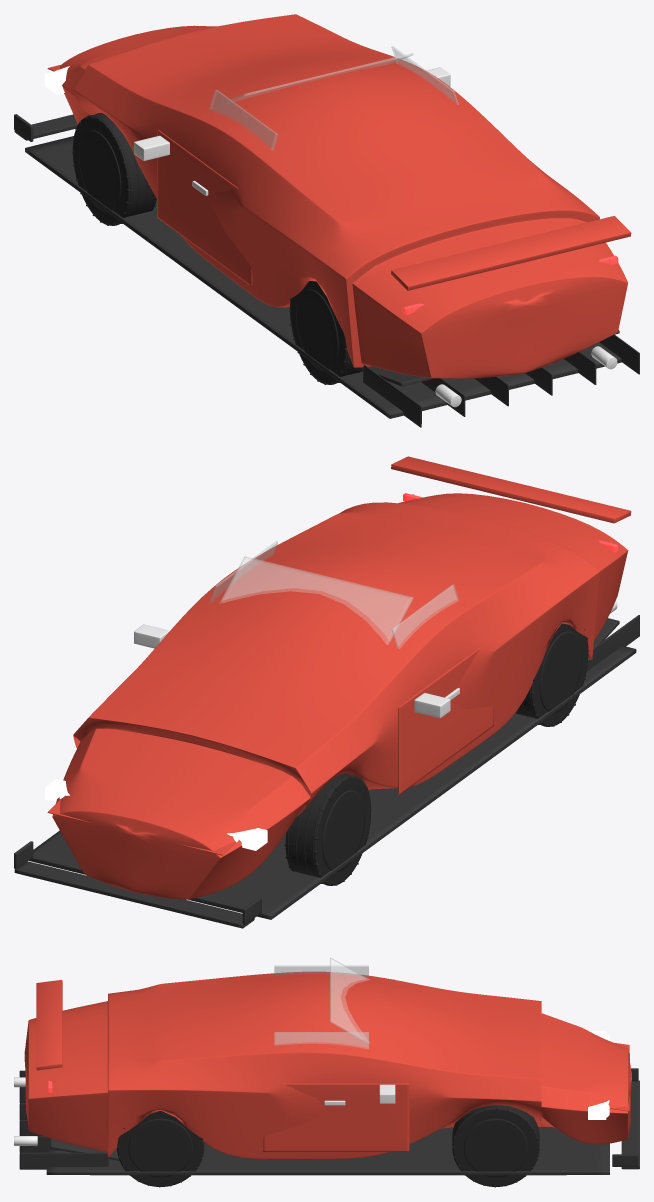
The model's file is vehicle.glb.
The picture shows the model from 3 angles, top to bottom: view 1: azimuth 30°, elevation 25°; view 2: azimuth 150°, elevation 25°; view 3: azimuth 270°, elevation 25°; orthographic projection. The views are drawn at different scales.
Visible parts, largest first — view 1: BODY_MainShell, UNDERBODY_FlatFloor, BODY_Door_FL, WHEEL_FL_Tire, AERO_MustangGT_RearWing, WHEEL_RL_Tire, GLASS_Greenhouse, JEWELRY_Hardware, AERO_FrontSplitter, JEWELRY_MustangGT_DualExhaust; view 2: BODY_MainShell, UNDERBODY_FlatFloor, GLASS_Greenhouse, WHEEL_FL_Tire, BODY_Door_FL, WHEEL_RL_Tire, AERO_MustangGT_RearWing, AERO_FrontSplitter, JEWELRY_Hardware, LIGHTING_Headlamps; view 3: BODY_MainShell, UNDERBODY_FlatFloor, BODY_Door_FR, WHEEL_FR_Tire, WHEEL_RR_Tire, GLASS_Greenhouse, AERO_MustangGT_RearWing, AERO_FrontSplitter, JEWELRY_Hardware, LIGHTING_Headlamps, JEWELRY_MustangGT_DualExhaust.
Boxes of the visible parts, box(x1,y1,x2,y2) form: BODY_MainShell: box(60, 14, 627, 378); UNDERBODY_FlatFloor: box(25, 136, 639, 427); BODY_Door_FL: box(157, 129, 252, 286); WHEEL_FL_Tire: box(71, 113, 156, 225); AERO_MustangGT_RearWing: box(391, 216, 631, 290); WHEEL_RL_Tire: box(289, 281, 361, 384); GLASS_Greenhouse: box(209, 46, 458, 150); JEWELRY_Hardware: box(134, 67, 450, 195); AERO_FrontSplitter: box(14, 114, 77, 141); JEWELRY_MustangGT_DualExhaust: box(435, 346, 617, 407); BODY_MainShell: box(52, 493, 628, 899); UNDERBODY_FlatFloor: box(28, 615, 639, 919); GLASS_Greenhouse: box(209, 541, 458, 649); WHEEL_FL_Tire: box(284, 773, 371, 885); BODY_Door_FL: box(398, 647, 493, 795); WHEEL_RL_Tire: box(515, 623, 589, 726); AERO_MustangGT_RearWing: box(391, 456, 631, 523); AERO_FrontSplitter: box(14, 841, 261, 928); JEWELRY_Hardware: box(134, 624, 459, 718); LIGHTING_Headlamps: box(45, 779, 267, 850); BODY_MainShell: box(24, 971, 631, 1159); UNDERBODY_FlatFloor: box(19, 1070, 609, 1175); BODY_Door_FR: box(263, 1083, 409, 1151); WHEEL_FR_Tire: box(452, 1105, 539, 1187); WHEEL_RR_Tire: box(117, 1110, 204, 1187); GLASS_Greenhouse: box(274, 958, 369, 1048); AERO_MustangGT_RearWing: box(36, 980, 62, 1070); AERO_FrontSplitter: box(612, 1068, 639, 1169); JEWELRY_Hardware: box(324, 979, 395, 1105); LIGHTING_Headlamps: box(588, 1031, 609, 1119); JEWELRY_MustangGT_DualExhaust: box(14, 1077, 37, 1145).
Size of what is drawn, in the model's own units: 2.08 by 1.28 by 4.76.
